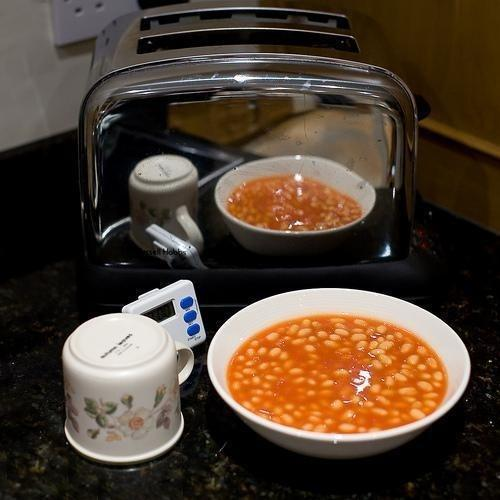cup-handle: (65, 312, 196, 465), (129, 155, 205, 261)
